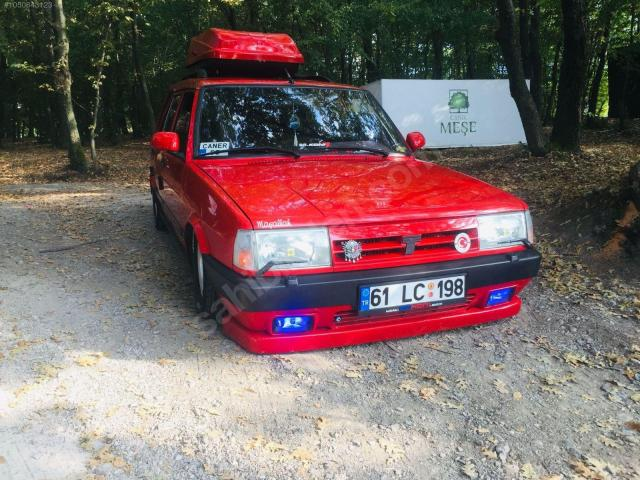plaka: (359, 275, 465, 312)
